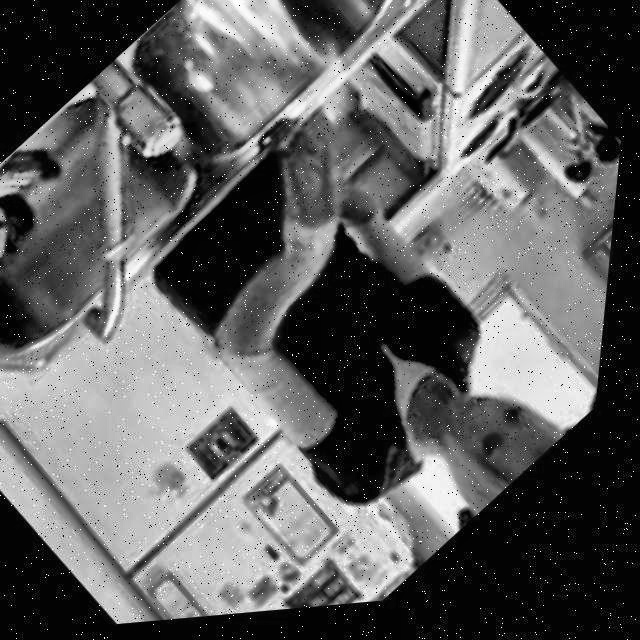Fire: (164, 0, 365, 144)
